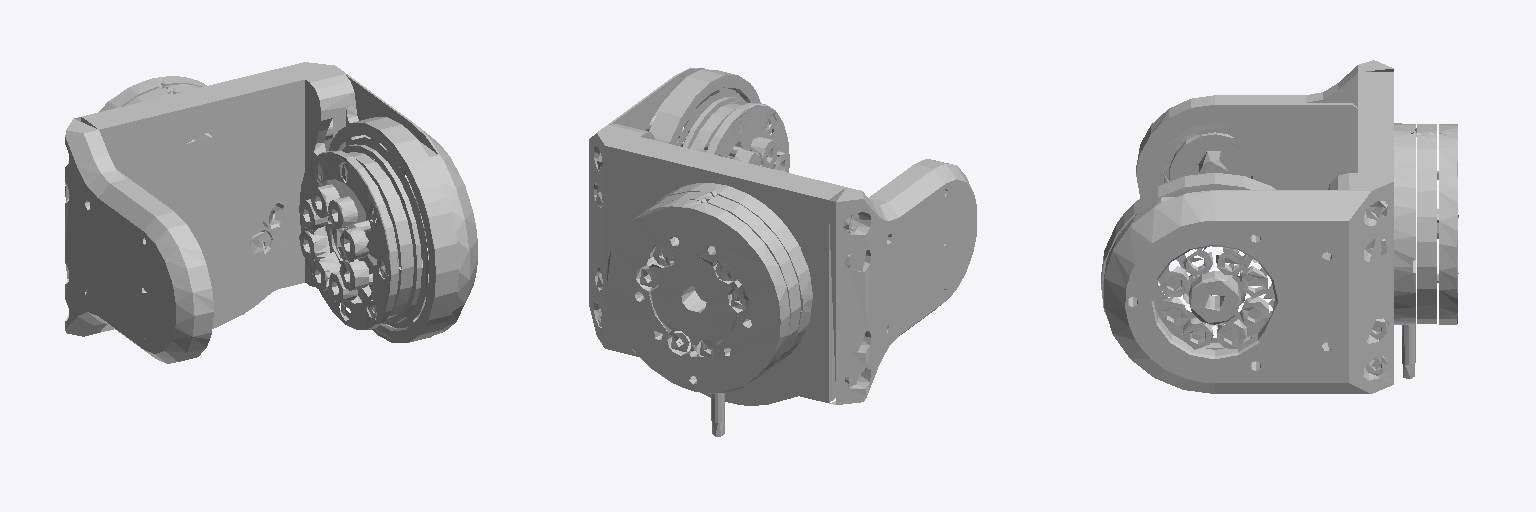
Rendered from sim_ecub_1-1_l_shoulder_2.obj.
3 renders of one model, left to right at view 1: azimuth 30°, elevation 25°; view 2: azimuth 150°, elevation 25°; view 3: azimuth 270°, elevation 25°, orthographic.
Bounding box in the file's own units: 74.6 × 62.85 × 79.79.